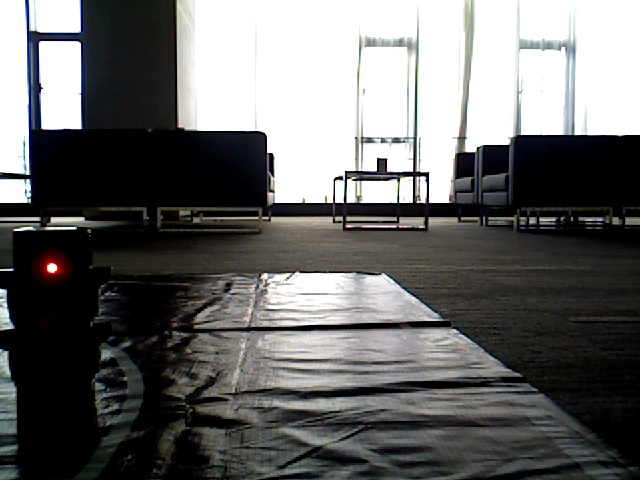red: (13, 230, 90, 400)
